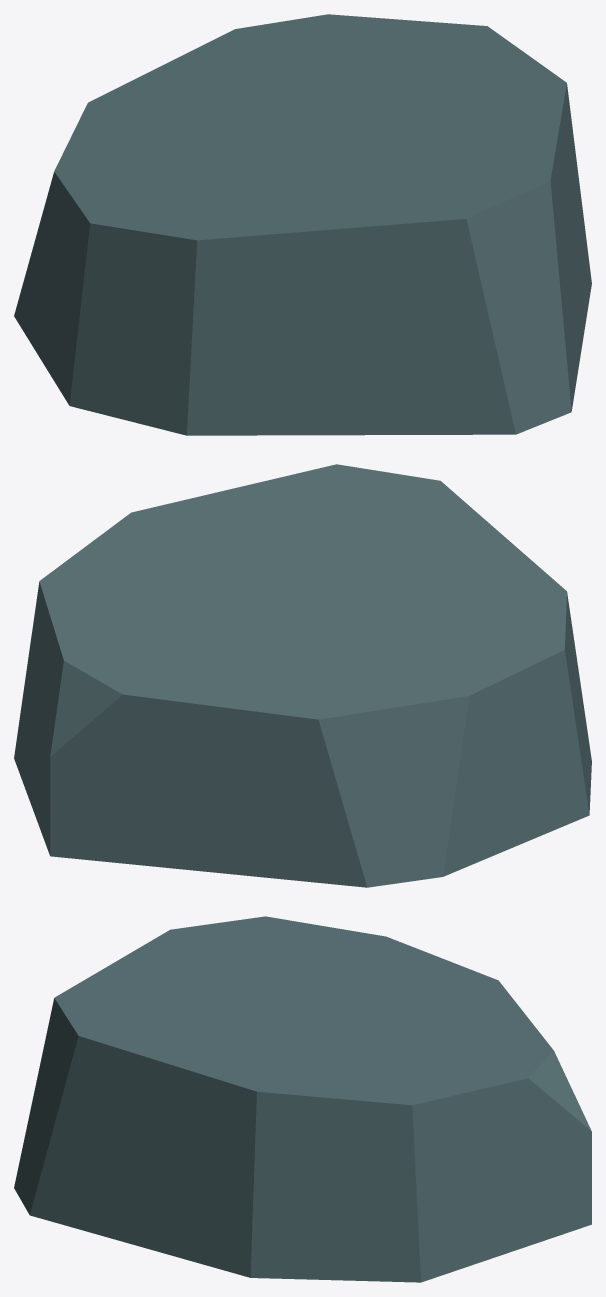
Rendered from brigesCube_015.fbx.
The picture shows the model from 3 angles, top to bottom: view 1: azimuth 30°, elevation 25°; view 2: azimuth 150°, elevation 25°; view 3: azimuth 270°, elevation 25°; orthographic projection. The views are drawn at different scales.
Visible parts, largest first — view 1: Cube.015; view 2: Cube.015; view 3: Cube.015.
Part boxes in pixels (x1,y1,x2,y2): Cube.015: (14,14,591,435); Cube.015: (14,464,591,887); Cube.015: (14,916,591,1282).
Bounding box in the file's own units: 97.63 × 37.24 × 106.
